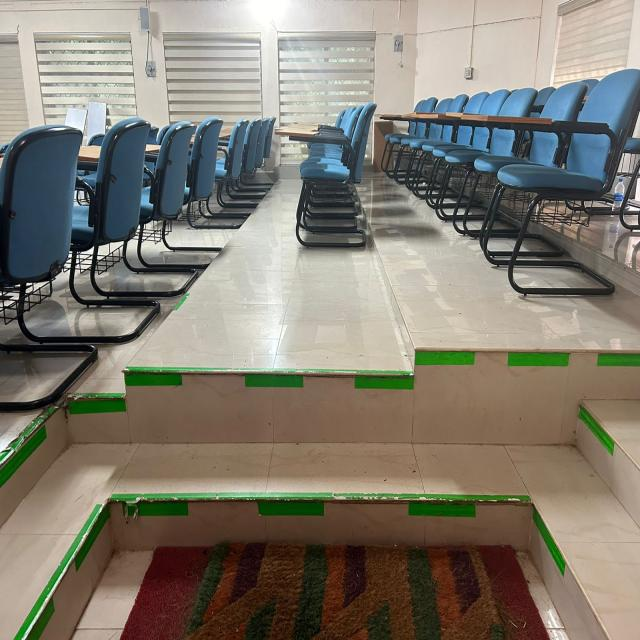chair ahead at: (279, 106, 377, 250)
step ahead at: (125, 370, 412, 450), (107, 502, 533, 550)
